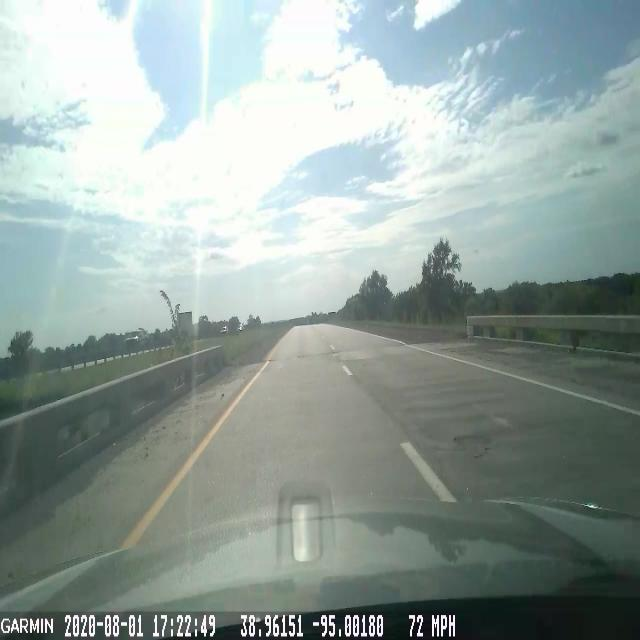Pothole: (451, 421, 495, 472)
